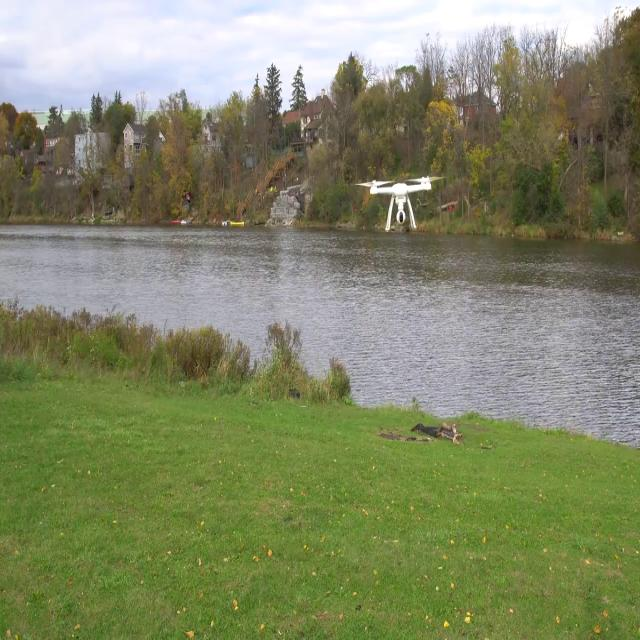drone: (358, 163, 444, 220)
